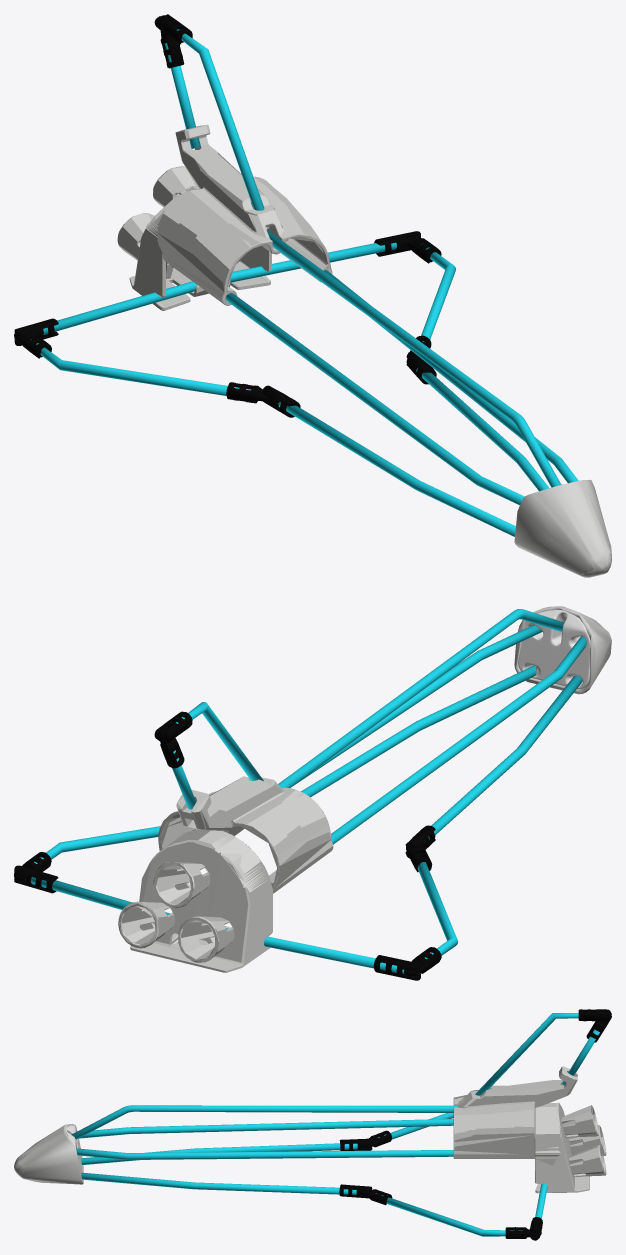
File: Shuttle.gltf
3 renders of one model, top to bottom at view 1: azimuth 30°, elevation 25°; view 2: azimuth 150°, elevation 25°; view 3: azimuth 270°, elevation 25°, orthographic. The views are drawn at different scales.
Parts seen in each view (by area): view 1: Zbrush Too Blender 1.004; view 2: Zbrush Too Blender 1.004; view 3: Zbrush Too Blender 1.004.
Boxes of the visible parts, <box> form: Zbrush Too Blender 1.004: <box>14,14,611,577</box>; Zbrush Too Blender 1.004: <box>14,606,611,980</box>; Zbrush Too Blender 1.004: <box>14,1009,611,1240</box>.
Bounding box in the file's own units: 136 × 79.72 × 258.
